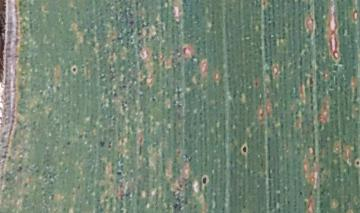tarspot: (238, 138, 250, 160), (198, 171, 211, 189), (171, 196, 184, 213), (98, 136, 107, 154), (69, 63, 80, 77), (114, 167, 124, 179), (352, 156, 360, 170)
